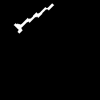half_double_crochet: (15, 4, 52, 32)
